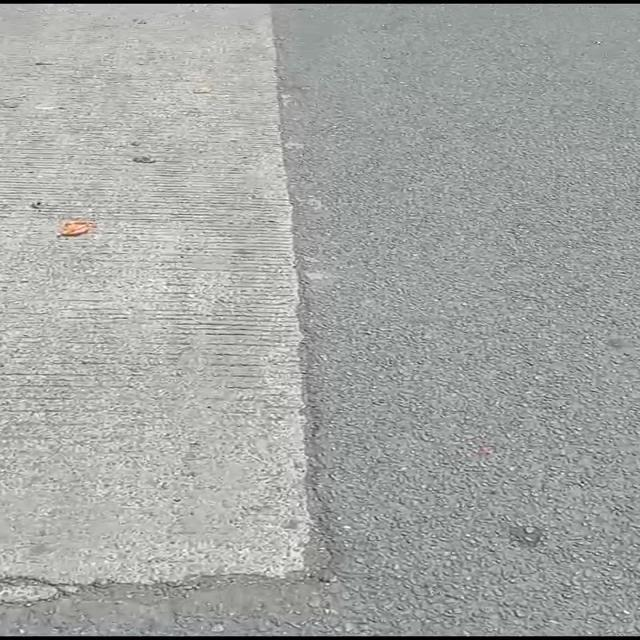Sambungan: (0, 0, 318, 590)
